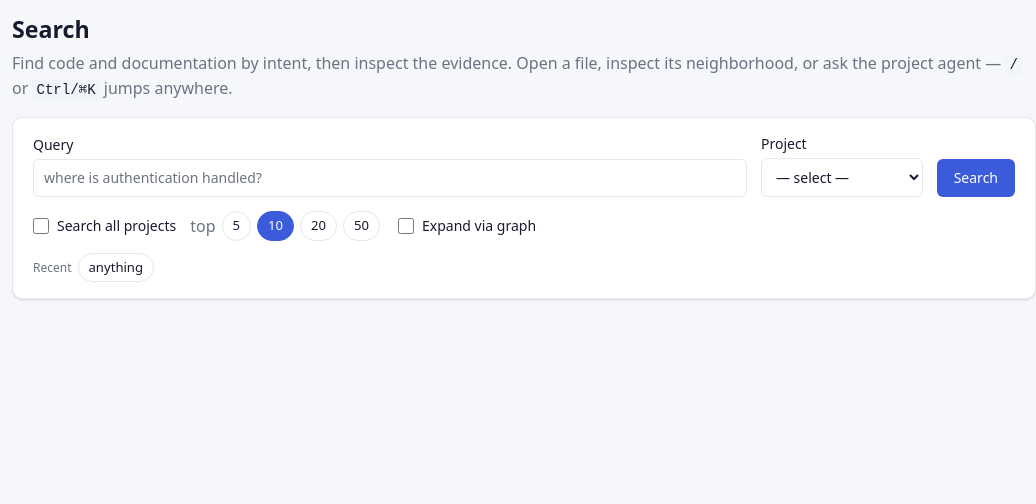
Test: SearchPage degraded badge › shows no alert on a healthy semantic search
Step 1. Type "anything" into the field with placeholder "where is authentication handled?" → coordinates (390, 178), box [33,159,747,197]
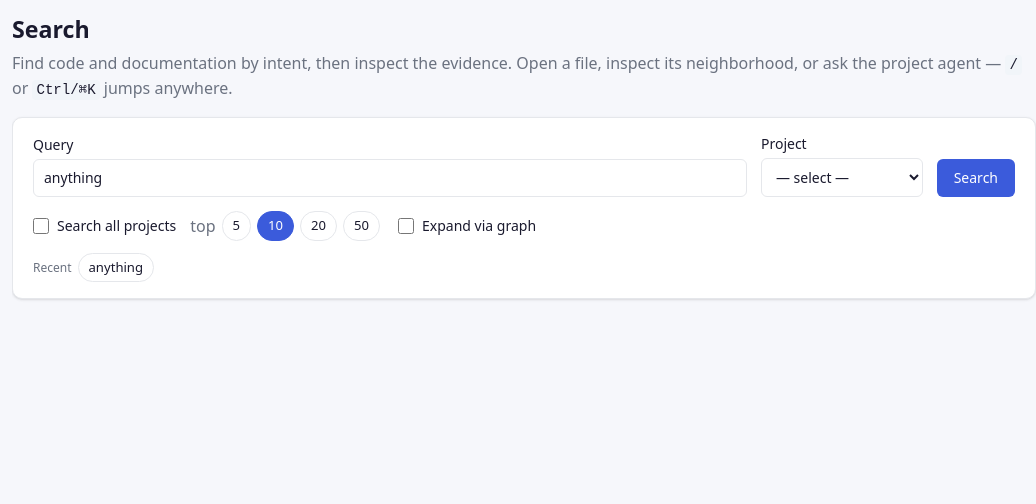
Step 2. Click the button "Search" → coordinates (976, 178), box [937,159,1015,197]
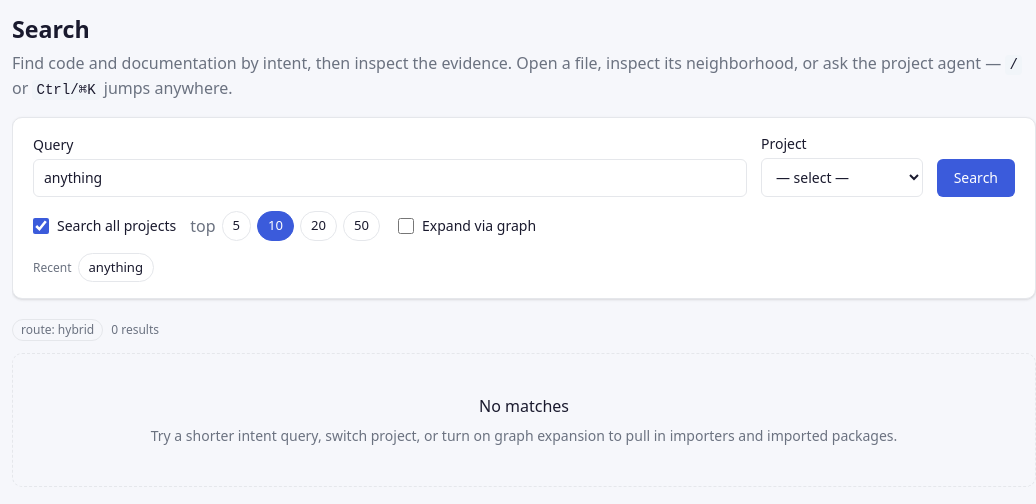
Now the text "No matches" is shown, box [479,394,569,418]
